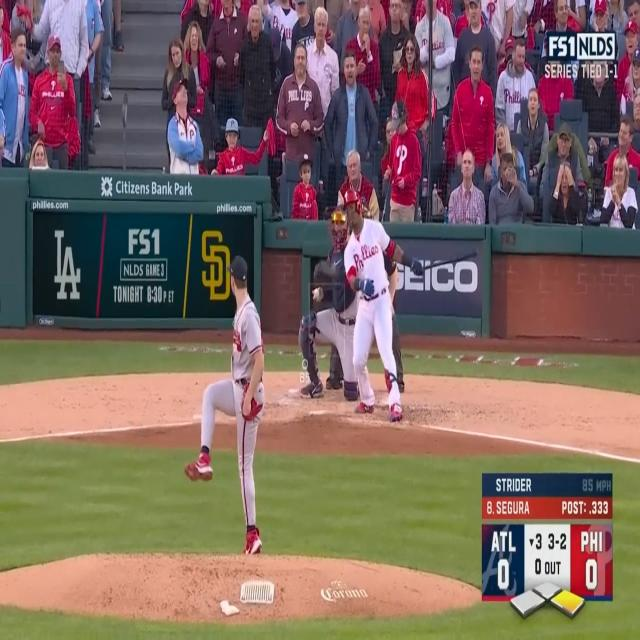baseball: (314, 288, 319, 298)
